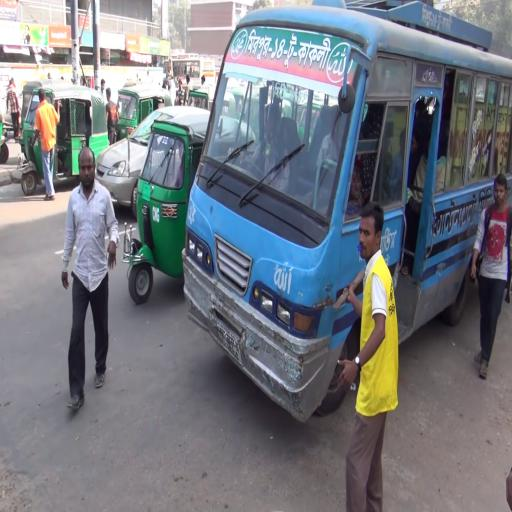bus: (180, 3, 512, 425), (173, 54, 217, 94)
car: (92, 102, 206, 221)
three wheelers (CNG): (131, 115, 253, 336), (19, 85, 109, 194), (19, 75, 63, 148), (119, 81, 172, 140), (187, 86, 240, 130), (1, 102, 12, 170)
